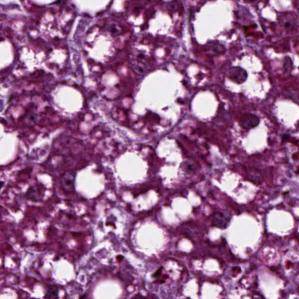steatosis: (54, 80, 84, 114), (190, 91, 220, 122)
